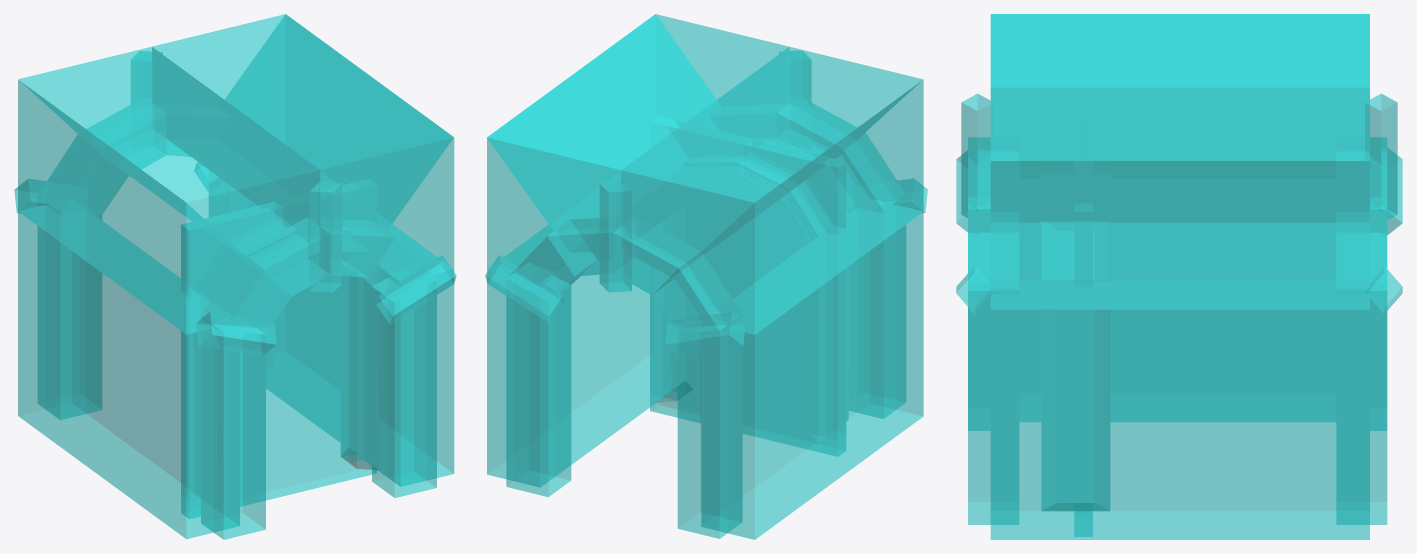
The model's file is SM_Bld_Wall_L_Gate_03_Collision.fbx.
3 views of the same model, side by side, from view 1: azimuth 30°, elevation 25°; view 2: azimuth 150°, elevation 25°; view 3: azimuth 270°, elevation 25° (orthographic). The views are drawn at different scales.
Visible parts, largest first — view 1: SM_Bld_Wall_L_Gate_03_Collision, SM_Bld_Wall_L_Gate_03_Door_01_Collision; view 2: SM_Bld_Wall_L_Gate_03_Collision, SM_Bld_Wall_L_Gate_03_Door_01_Collision; view 3: SM_Bld_Wall_L_Gate_03_Collision, SM_Bld_Wall_L_Gate_03_Door_01_Collision.
Boxes of the visible parts, box(x1,y1,x2,y2) form: SM_Bld_Wall_L_Gate_03_Collision: box(14, 14, 456, 539); SM_Bld_Wall_L_Gate_03_Door_01_Collision: box(181, 183, 376, 518); SM_Bld_Wall_L_Gate_03_Collision: box(485, 14, 927, 539); SM_Bld_Wall_L_Gate_03_Door_01_Collision: box(650, 120, 845, 456); SM_Bld_Wall_L_Gate_03_Collision: box(956, 14, 1402, 539); SM_Bld_Wall_L_Gate_03_Door_01_Collision: box(1074, 203, 1092, 536).
Bounding box in the file's own units: 500 × 631 × 642.
